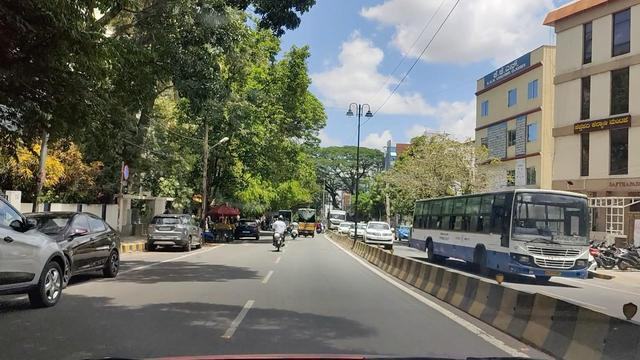LMV: (269, 208, 287, 254)
